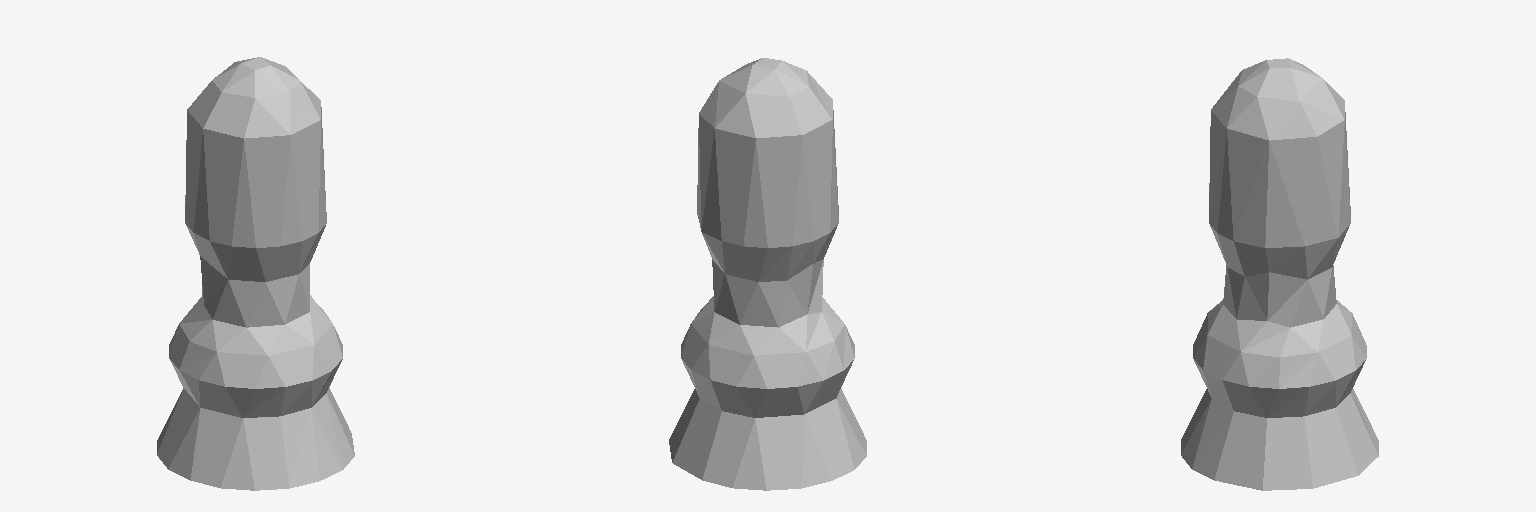
The model's file is light_11.obj.
The picture shows the model from 3 angles: view 1: azimuth 30°, elevation 25°; view 2: azimuth 150°, elevation 25°; view 3: azimuth 270°, elevation 25°; orthographic projection.
Parts seen in each view (by area): view 1: Cylinder001.010_Untitled.019; view 2: Cylinder001.010_Untitled.019; view 3: Cylinder001.010_Untitled.019.
Boxes of the visible parts, x1,y1,x2,y2 form: Cylinder001.010_Untitled.019: [157, 57, 354, 490]; Cylinder001.010_Untitled.019: [669, 58, 866, 490]; Cylinder001.010_Untitled.019: [1181, 58, 1378, 490].
Bounding box in the file's own units: 0.2348 × 0.4952 × 0.2317.